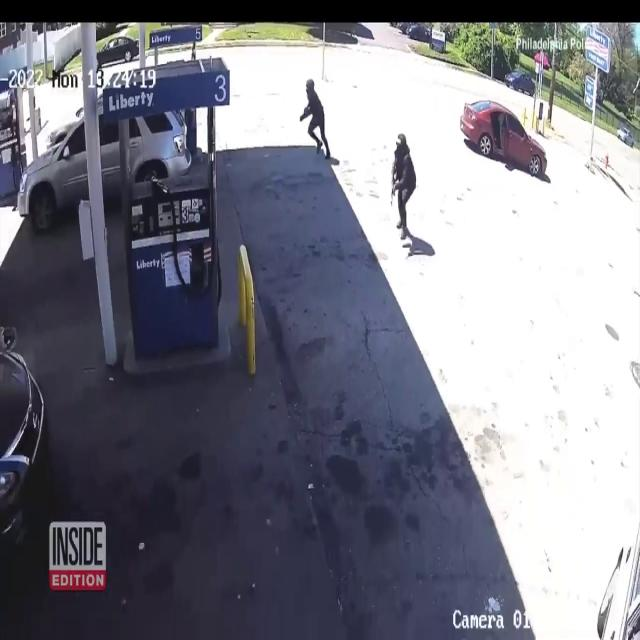penembakan: (386, 126, 419, 243), (299, 77, 333, 168)
